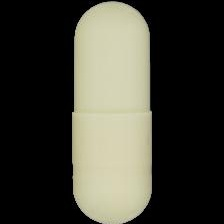68788-9816: (0, 0, 224, 224)
